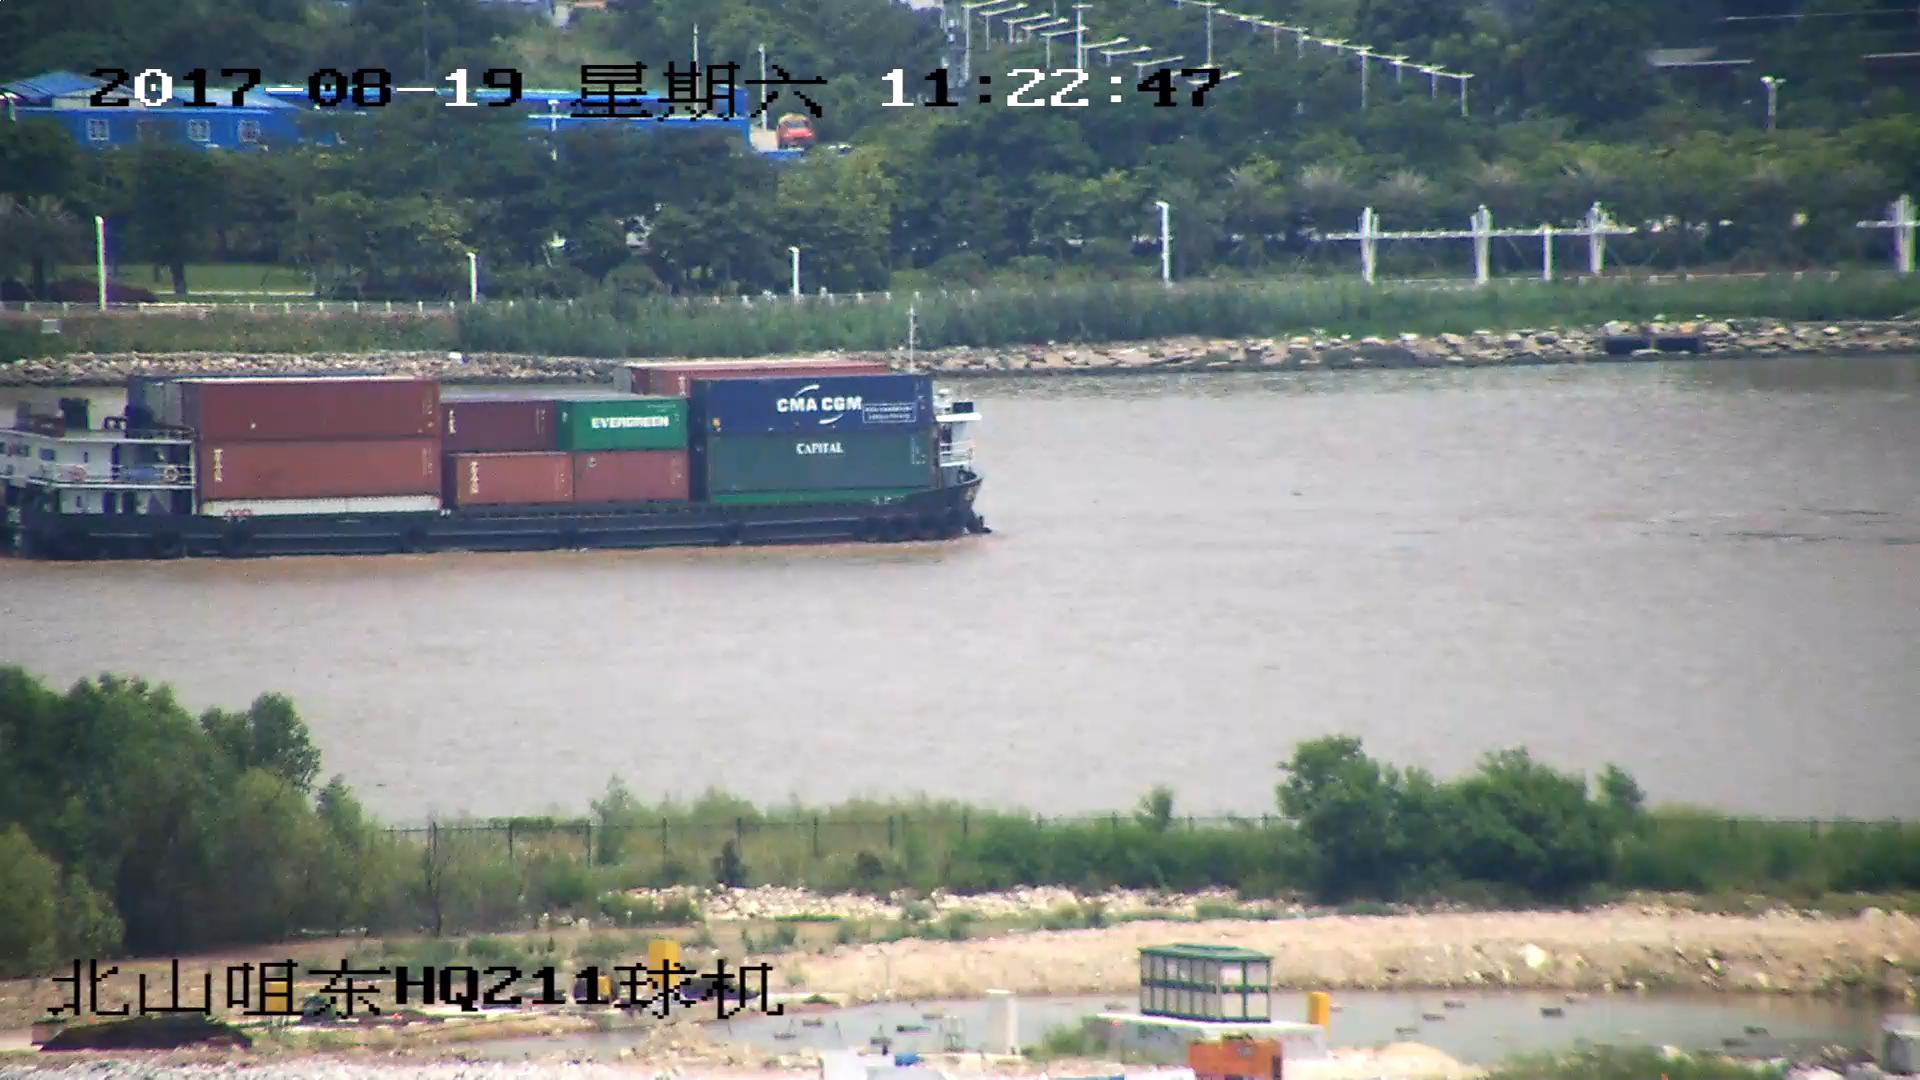container ship: (1, 317, 990, 557)
